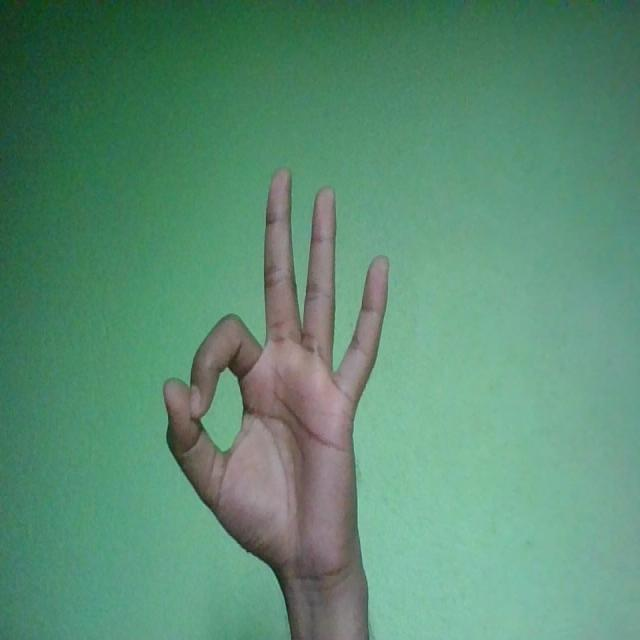Rock On: (163, 168, 391, 592)
